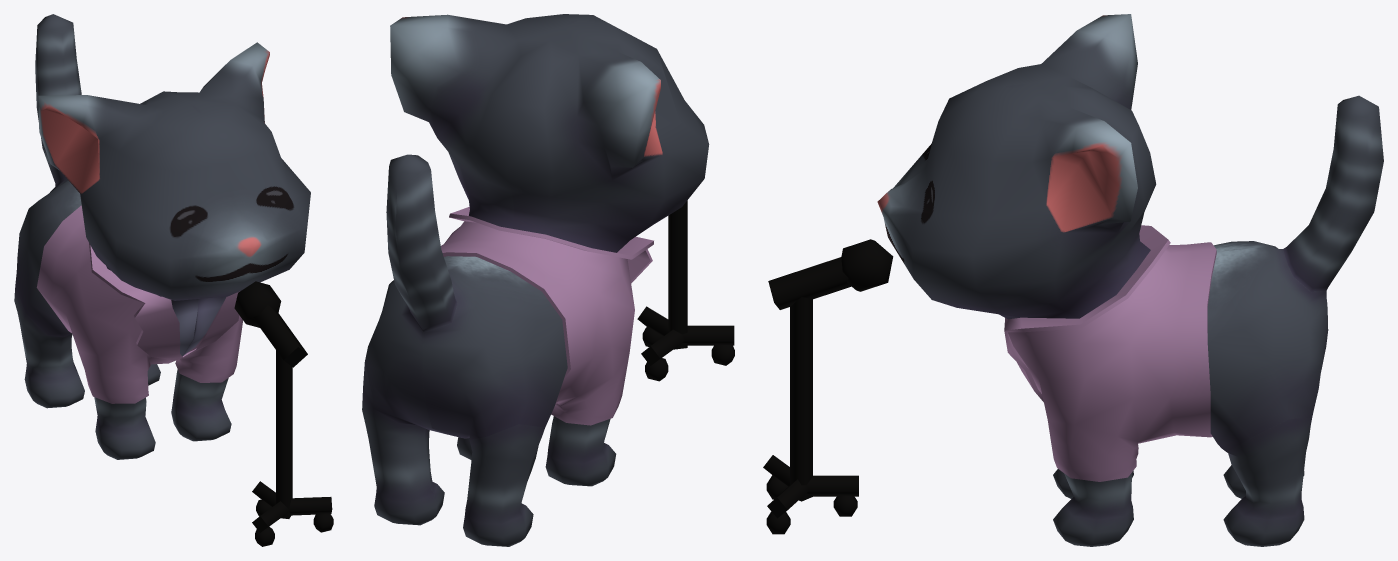
File: Singer Cat04.fbx
3 renders of one model, left to right at view 1: azimuth 30°, elevation 25°; view 2: azimuth 150°, elevation 25°; view 3: azimuth 270°, elevation 25°, orthographic. The views are drawn at different scales.
Visible parts, largest first — view 1: Cat_Base003, TS_Cat_Shirt, Singer_Cat_Mic; view 2: Cat_Base003, TS_Cat_Shirt, Singer_Cat_Mic; view 3: Cat_Base003, TS_Cat_Shirt, Singer_Cat_Mic.
Part boxes in pixels (x1,y1,x2,y2): Cat_Base003: (14,14,310,459); TS_Cat_Shirt: (36,205,242,403); Singer_Cat_Mic: (234,281,333,546); Cat_Base003: (362,14,709,546); TS_Cat_Shirt: (441,206,653,425); Singer_Cat_Mic: (637,200,734,381); Cat_Base003: (877,14,1383,546); TS_Cat_Shirt: (1004,225,1216,481); Singer_Cat_Mic: (763,239,893,534).
Bounding box in the file's own units: 1.75 × 3.47 × 2.68.
Materials: 4 (1 with a texture image).
